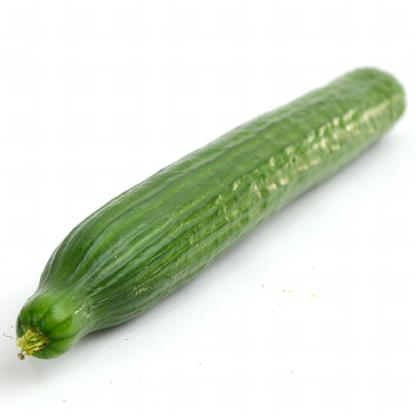--: (5, 58, 408, 372)
